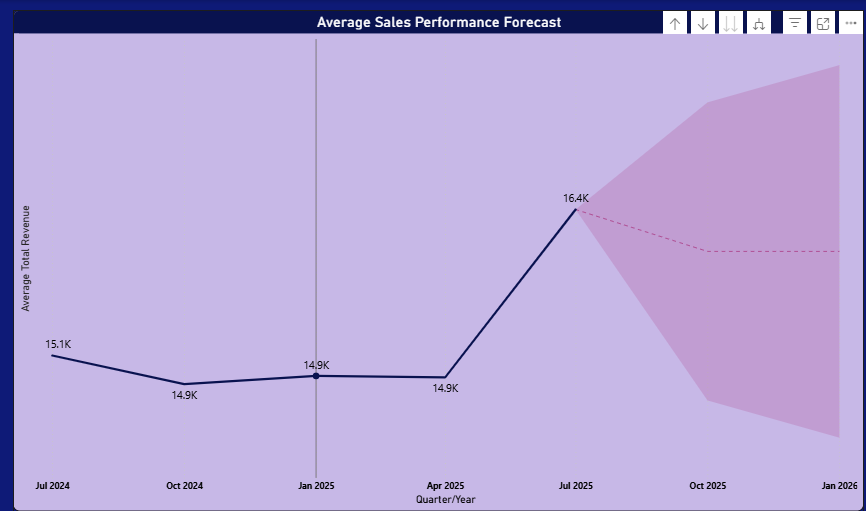

This screenshot's page, from the dashboard's own definition file:
{"tool":"powerbi","page":{"name":"Forecast","canvas":[1280,720],"ordinal":1},"visuals":[{"type":"lineChart","title":"Average Sales Performance Forecast","fields":{"Y":["Avg(20250715 - Tufin Junior Data Analyst Data Set.Deal Size (USD))"],"Category":["20250715 - Tufin Junior Data Analyst Data Set.Deal Date.Variation.Date Hierarchy.Year","20250715 - Tufin Junior Data Analyst Data Set.Deal Date.Variation.Date Hierarchy.Quarter","20250715 - Tufin Junior Data Analyst Data Set.Deal Date.Variation.Date Hierarchy.Month","20250715 - Tufin Junior Data Analyst Data Set.Deal Date.Variation.Date Hierarchy.Day"]},"box":[30,14.3,1171.4,690],"z":0}]}

Visuals, with their boxes on the page's 1280x720 design canvas (x1, y1, x2, y2). These are canvas units, not pixel positions in the 866x511 screenshot, which may show the page scaled, cropped or inside an application window:
"Average Sales Performance Forecast" lineChart: {"left": 30, "top": 14, "right": 1201, "bottom": 704}
